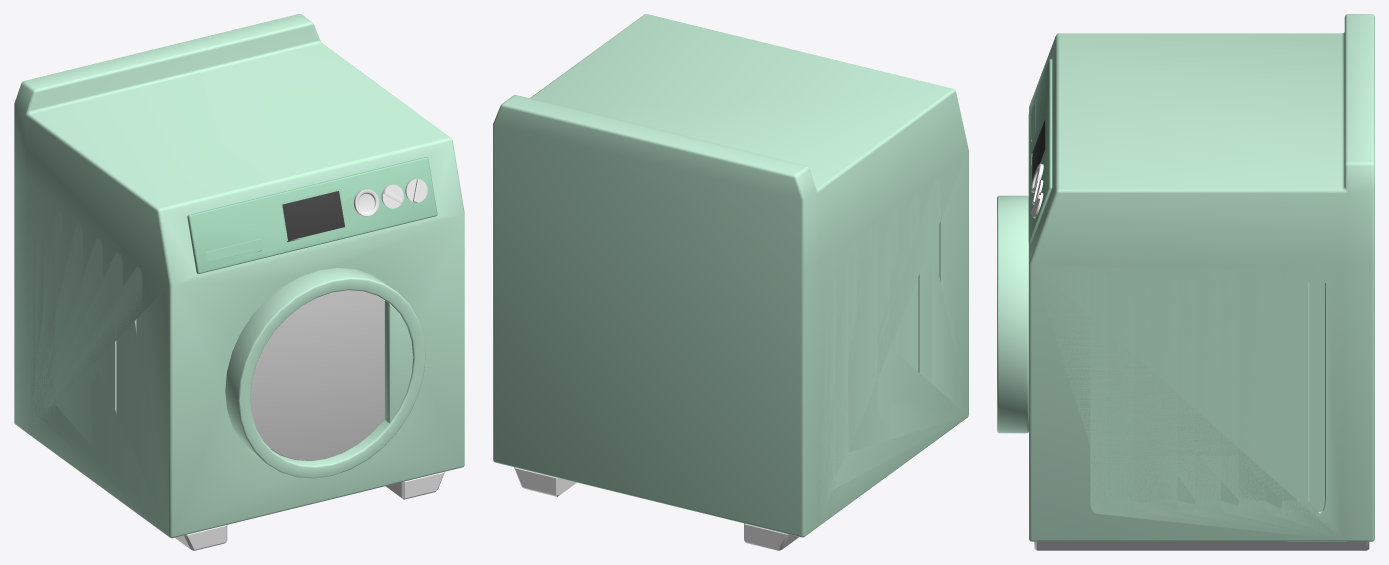
Rendered from waschmaschine.fbx.
3 renders of one model, left to right at view 1: azimuth 30°, elevation 25°; view 2: azimuth 150°, elevation 25°; view 3: azimuth 270°, elevation 25°, orthographic. The views are drawn at different scales.
Parts seen in each view (by area): view 1: Cube, Cylinder.004, Cube.002, Cylinder.002, Cylinder.003, Cube.004, Cube.006, Cylinder.006; view 2: Cube, Cube.006; view 3: Cube, Cylinder.002, Cube.006, Cube.002.
Boxes of the visible parts, <box> form: Cube: <box>14,14,464,538</box>; Cylinder.004: <box>250,290,384,460</box>; Cube.002: <box>187,157,437,273</box>; Cylinder.002: <box>225,268,425,478</box>; Cylinder.003: <box>384,300,413,423</box>; Cube.004: <box>282,191,344,241</box>; Cube.006: <box>175,471,444,550</box>; Cylinder.006: <box>353,189,379,216</box>; Cube: <box>493,14,968,537</box>; Cube.006: <box>514,467,798,550</box>; Cube: <box>1029,14,1374,541</box>; Cylinder.002: <box>997,195,1028,433</box>; Cube.006: <box>1034,541,1369,550</box>; Cube.002: <box>1028,59,1052,243</box>.
Bounding box in the file's own units: 189 × 221 × 190.
